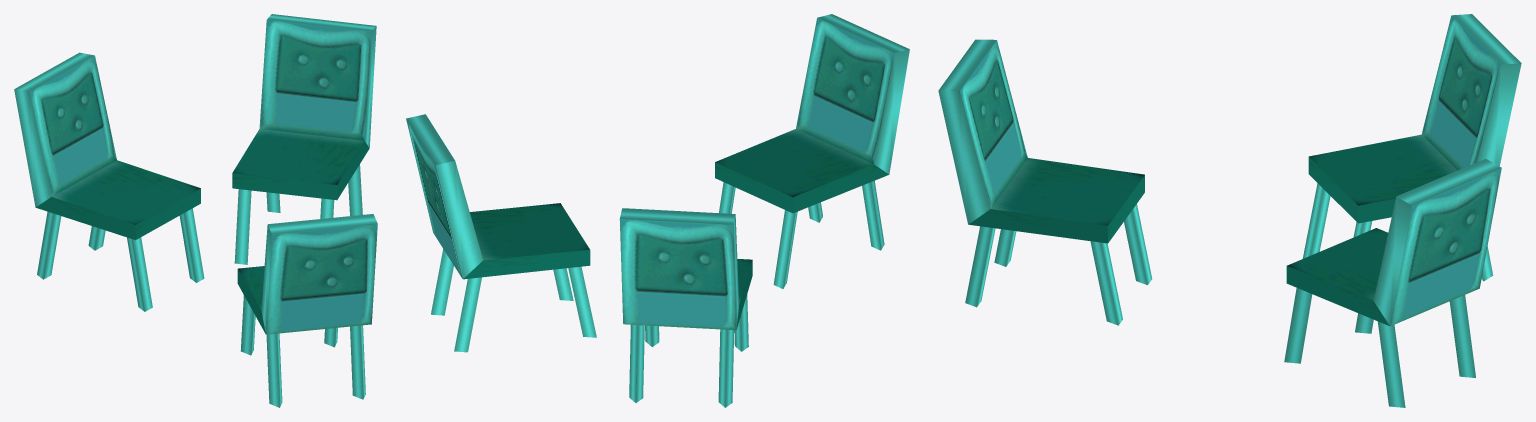
Rendered from Chairs01.glb.
3 renders of one model, left to right at view 1: azimuth 30°, elevation 25°; view 2: azimuth 150°, elevation 25°; view 3: azimuth 270°, elevation 25°, orthographic. The views are drawn at different scales.
Visible parts, largest first — view 1: Chairs01; view 2: Chairs01; view 3: Chairs01.
Part boxes in pixels (left/top/right/bottom): Chairs01: left=14, top=14, right=377, bottom=407; Chairs01: left=406, top=14, right=909, bottom=407; Chairs01: left=938, top=14, right=1521, bottom=407.
Size of the model in its own units: 420 by 221 by 540.
Materials: 1 (1 with a texture image).
